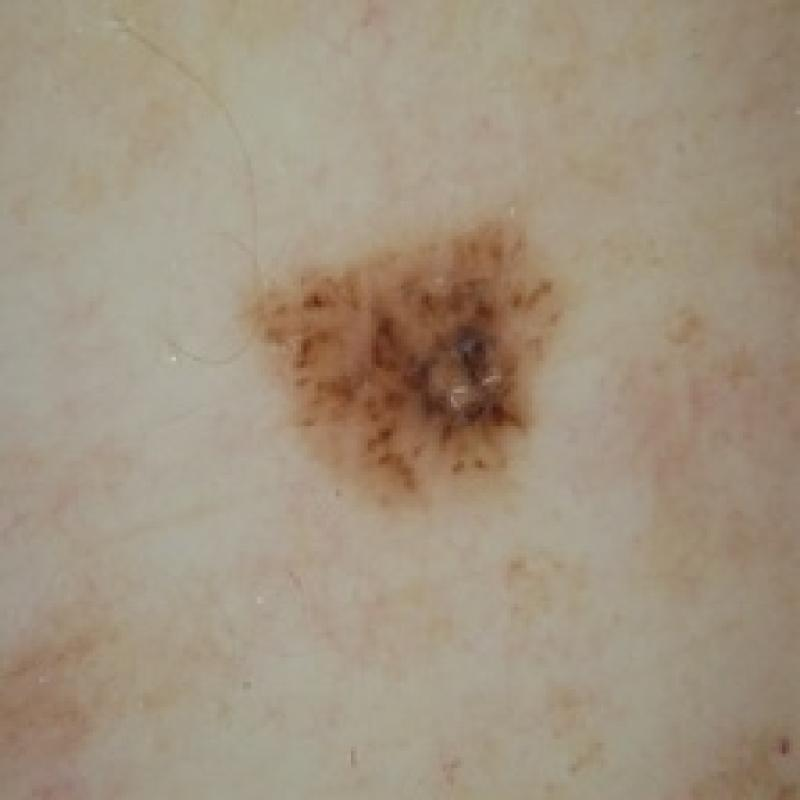malignant: (230, 218, 614, 519)
